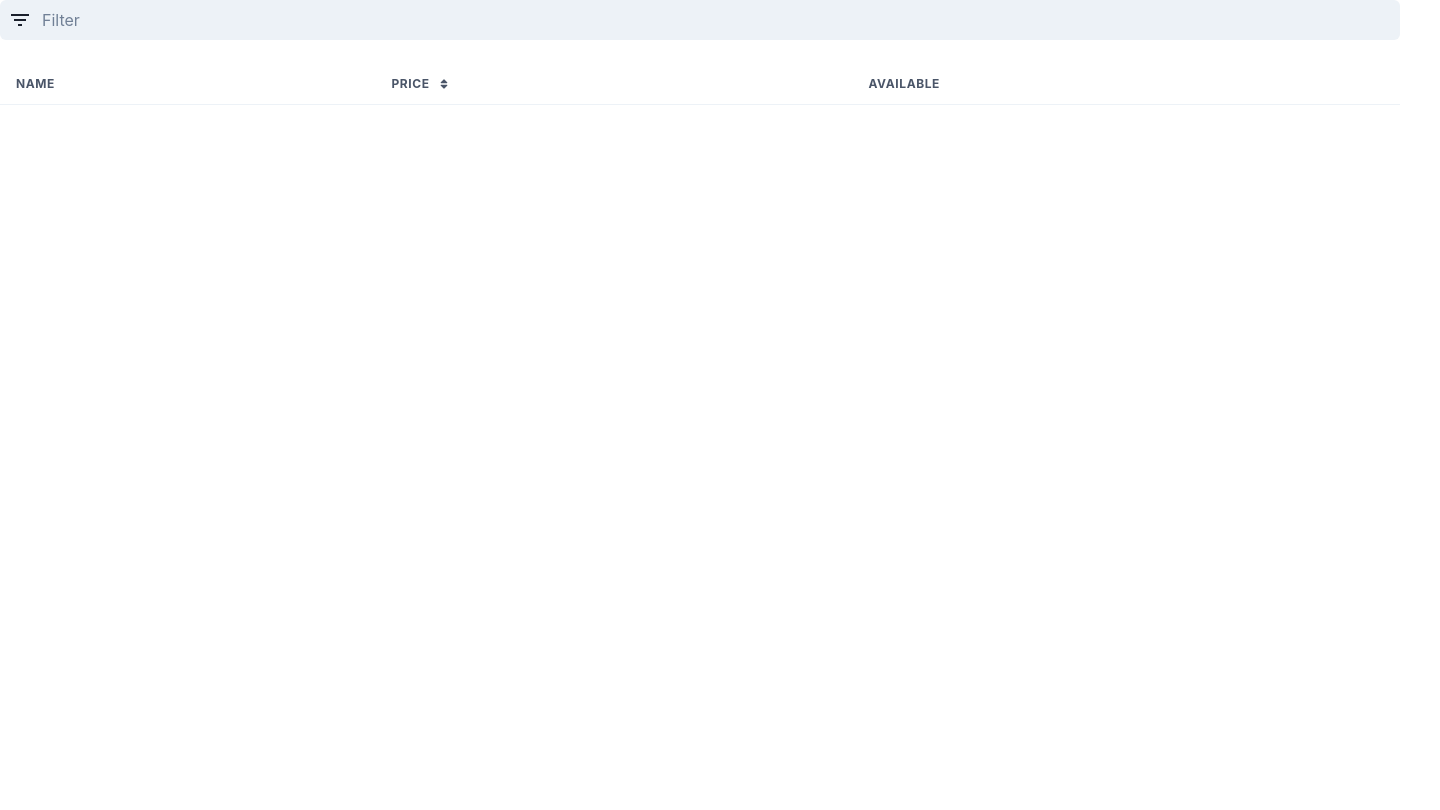
Test: Table › filtering input › char filter modal › should render the modal correctly
Click the field with placeholder "Filter" at (700, 20), box [0, 0, 1400, 40]
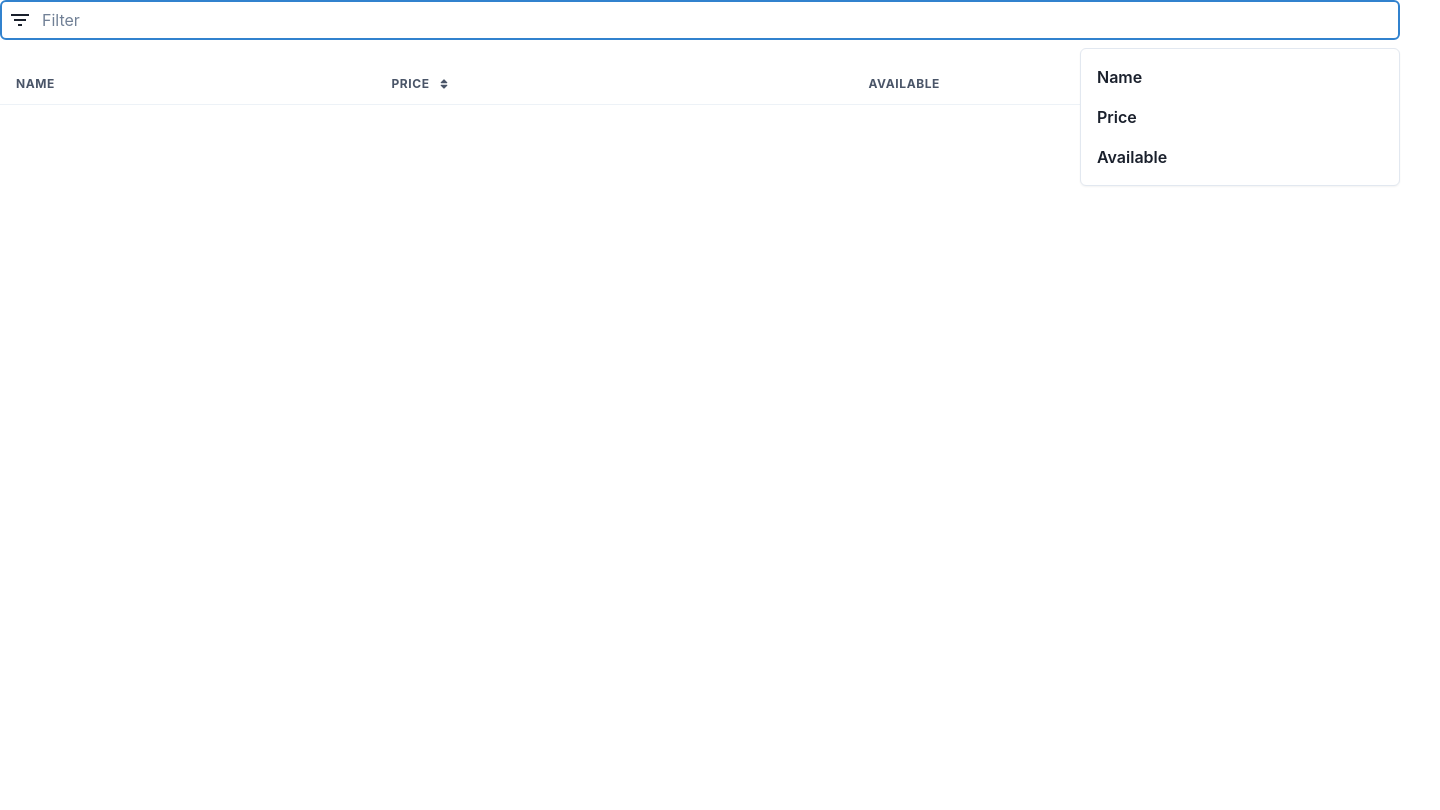
Click the list item "Name" at (1120, 77), box [1097, 67, 1142, 87]
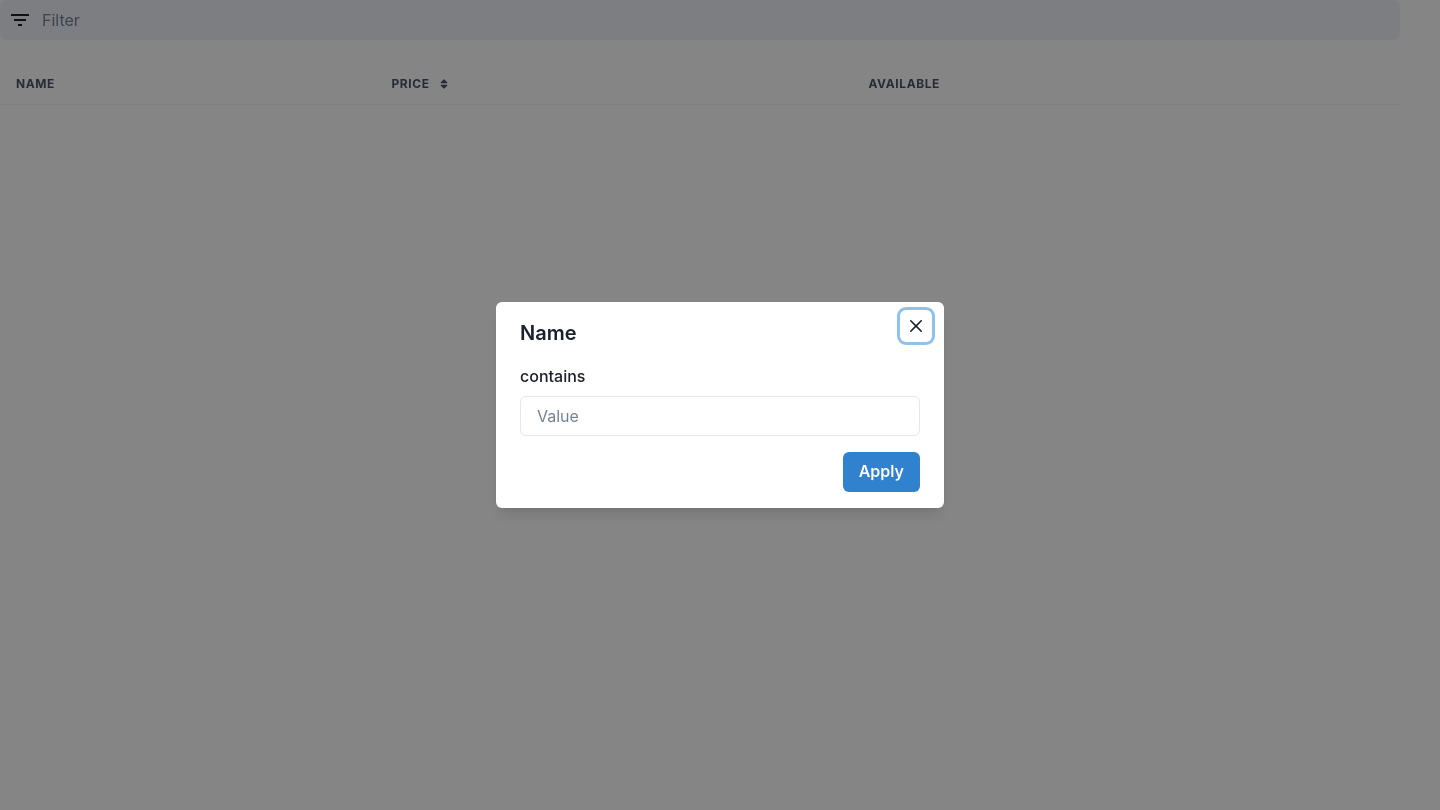
Now the field with placeholder "Value" is shown, box [520, 396, 920, 436]
Now the button "Apply" is shown, box [843, 452, 920, 492]
